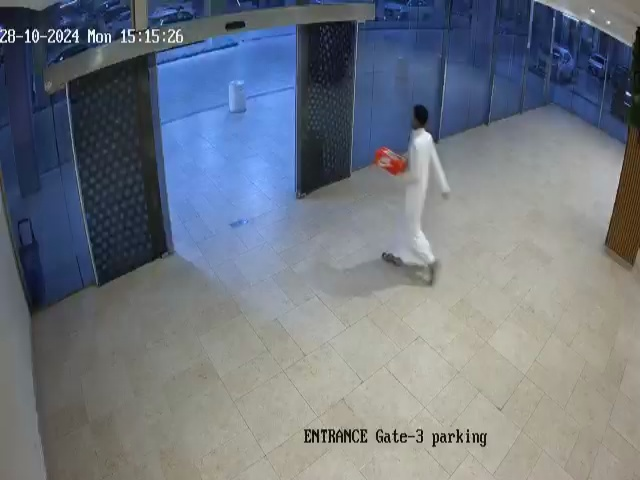male: (377, 104, 451, 271)
